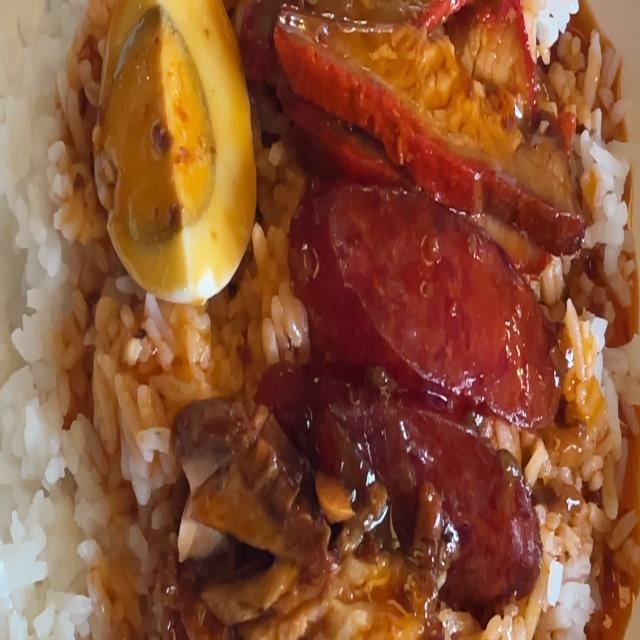01boiled_egg: (111, 6, 243, 266)
01chainese_sausage: (275, 186, 550, 552)
01crispy_pork: (184, 407, 298, 578), (219, 546, 424, 640)
01red_pork: (274, 0, 536, 199)
01red_pork_and_crispy_pork: (0, 0, 640, 640)
01rice: (0, 0, 96, 640), (586, 63, 638, 640), (94, 296, 177, 640)
